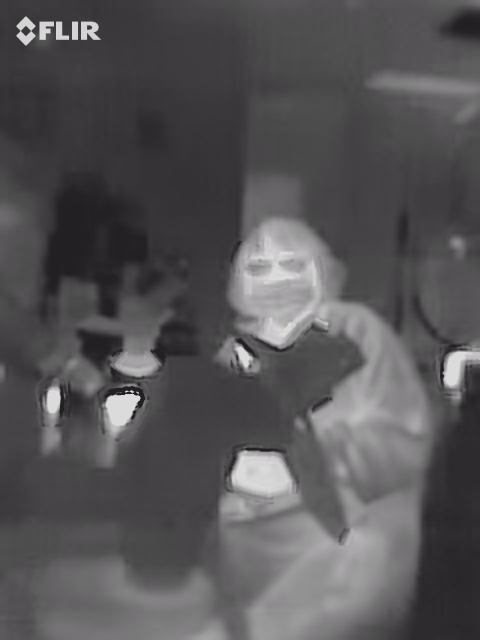head: (225, 215, 347, 328)
